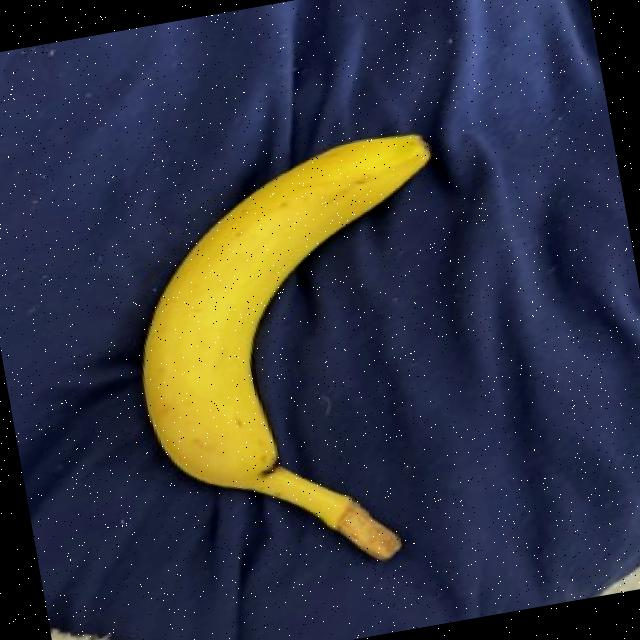Ripe: (43, 64, 544, 626)
